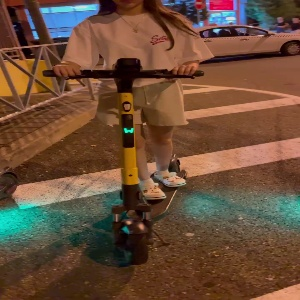human on a scooter: (41, 1, 217, 266)
